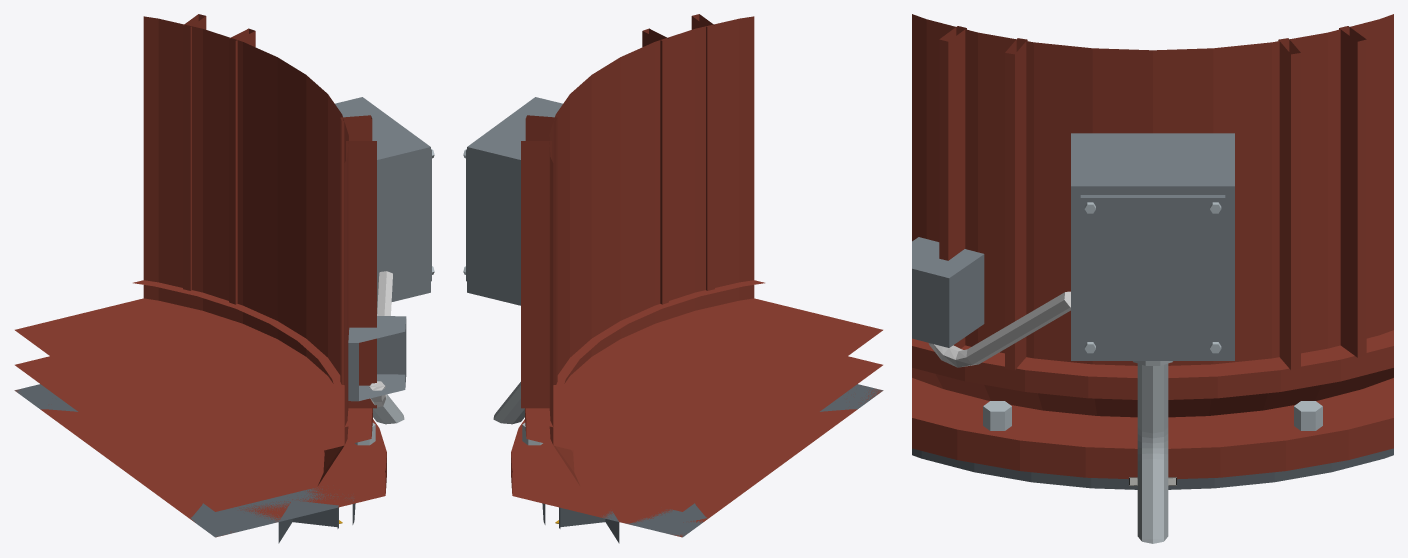
Rendered from cell_69.obj.
3 renders of one model, left to right at view 1: azimuth 30°, elevation 25°; view 2: azimuth 150°, elevation 25°; view 3: azimuth 270°, elevation 25°, orthographic. The views are drawn at different scales.
Bounding box in the file's own units: 0.8368 × 1 × 1.
